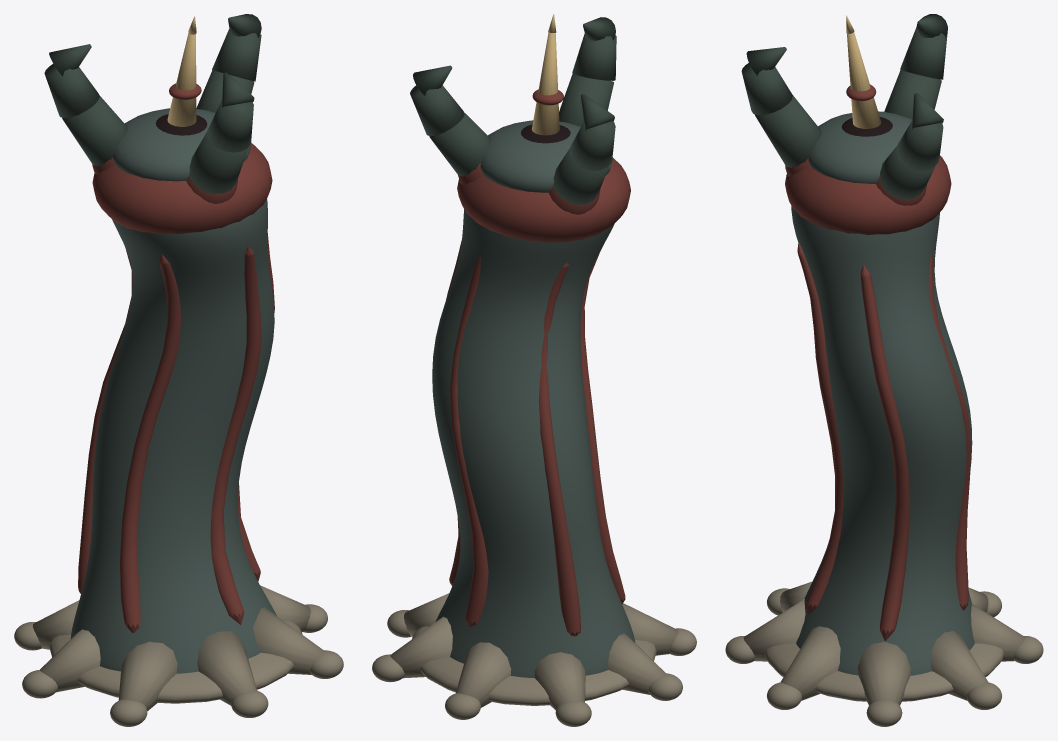
Rendered from MortarLeech.glb.
3 views of the same model, side by side, from view 1: azimuth 30°, elevation 25°; view 2: azimuth 150°, elevation 25°; view 3: azimuth 270°, elevation 25° (orthographic). The views are drawn at different scales.
Visible parts, largest first — view 1: Anchored soft column, Collar base, Tension rib 3, Tension rib 4, Raised annular mantle, Ground adhesion pad, Mineral holdfast 5, Mineral holdfast 6, Upper hook shaft 2, Mineral holdfast 7, Upper hook shaft 3, Mineral holdfast 4 (+18 smaller); view 2: Anchored soft column, Collar base, Tension rib 2, Raised annular mantle, Ground adhesion pad, Tension rib 1, Tension rib 3, Mineral holdfast 2, Mineral holdfast 3, Upper hook shaft 1, Mineral holdfast 1, Mineral holdfast 4 (+18 smaller); view 3: Anchored soft column, Collar base, Tension rib 0, Raised annular mantle, Tension rib 4, Ground adhesion pad, Mineral holdfast 0, Upper hook shaft 3, Mineral holdfast 7, Tension rib 1, Mineral holdfast 1, Mineral holdfast 6 (+16 smaller).
Part boxes in pixels (x1,y1,x2,y2): Anchored soft column: (70,199,276,673); Collar base: (92,143,272,233); Tension rib 3: (119,255,180,632); Tension rib 4: (210,246,261,624); Raised annular mantle: (112,108,250,181); Ground adhesion pad: (49,621,302,703); Mineral holdfast 5: (118,641,177,710); Mineral holdfast 6: (197,631,257,705); Upper hook shaft 2: (62,95,127,166); Mineral holdfast 7: (253,607,324,674); Upper hook shaft 3: (189,131,248,194); Mineral holdfast 4: (40,629,100,692); Anchored soft column: (432,209,635,677); Collar base: (457,157,630,242); Tension rib 2: (539,263,580,636); Raised annular mantle: (480,120,612,192); Ground adhesion pad: (412,626,656,705); Tension rib 1: (450,257,488,627); Tension rib 3: (580,243,625,603); Mineral holdfast 2: (456,642,511,707); Mineral holdfast 3: (534,652,585,710); Upper hook shaft 1: (429,112,491,176); Mineral holdfast 1: (390,616,452,678); Mineral holdfast 4: (608,633,665,694); Anchored soft column: (791,206,974,675); Collar base: (785,155,951,235); Tension rib 0: (860,264,909,641); Raised annular mantle: (808,111,912,183); Tension rib 4: (797,243,843,614); Ground adhesion pad: (764,643,1004,701); Mineral holdfast 0: (858,641,910,705); Upper hook shaft 3: (754,95,821,168); Mineral holdfast 7: (781,626,840,700); Tension rib 1: (928,252,970,610); Mineral holdfast 1: (930,631,987,700); Mineral holdfast 6: (743,599,805,661).
Size of the model in its own units: 1.12 by 2.38 by 1.05.
